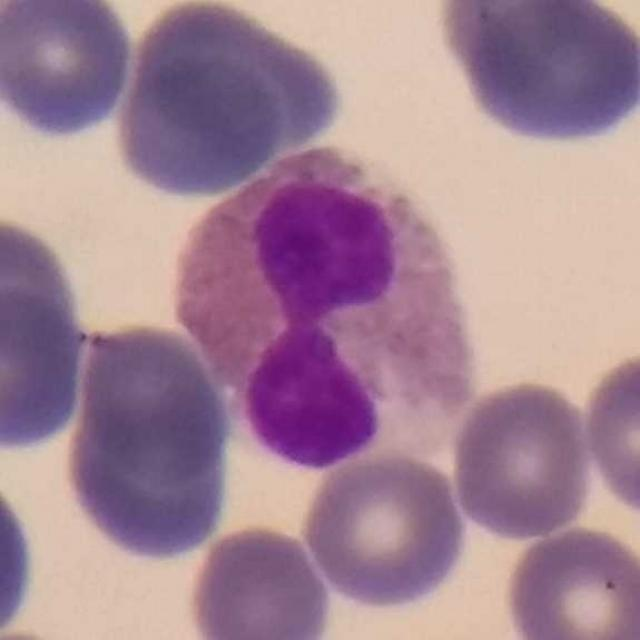Eosinophil: (154, 133, 486, 466)
RBC: (107, 0, 340, 205), (57, 342, 238, 568), (436, 0, 639, 152), (298, 448, 471, 612), (447, 376, 598, 543), (69, 318, 226, 468), (0, 0, 138, 144), (183, 520, 336, 640), (500, 522, 640, 640), (0, 282, 92, 455), (431, 0, 595, 87), (0, 212, 86, 370), (579, 345, 640, 522), (0, 453, 45, 640)
